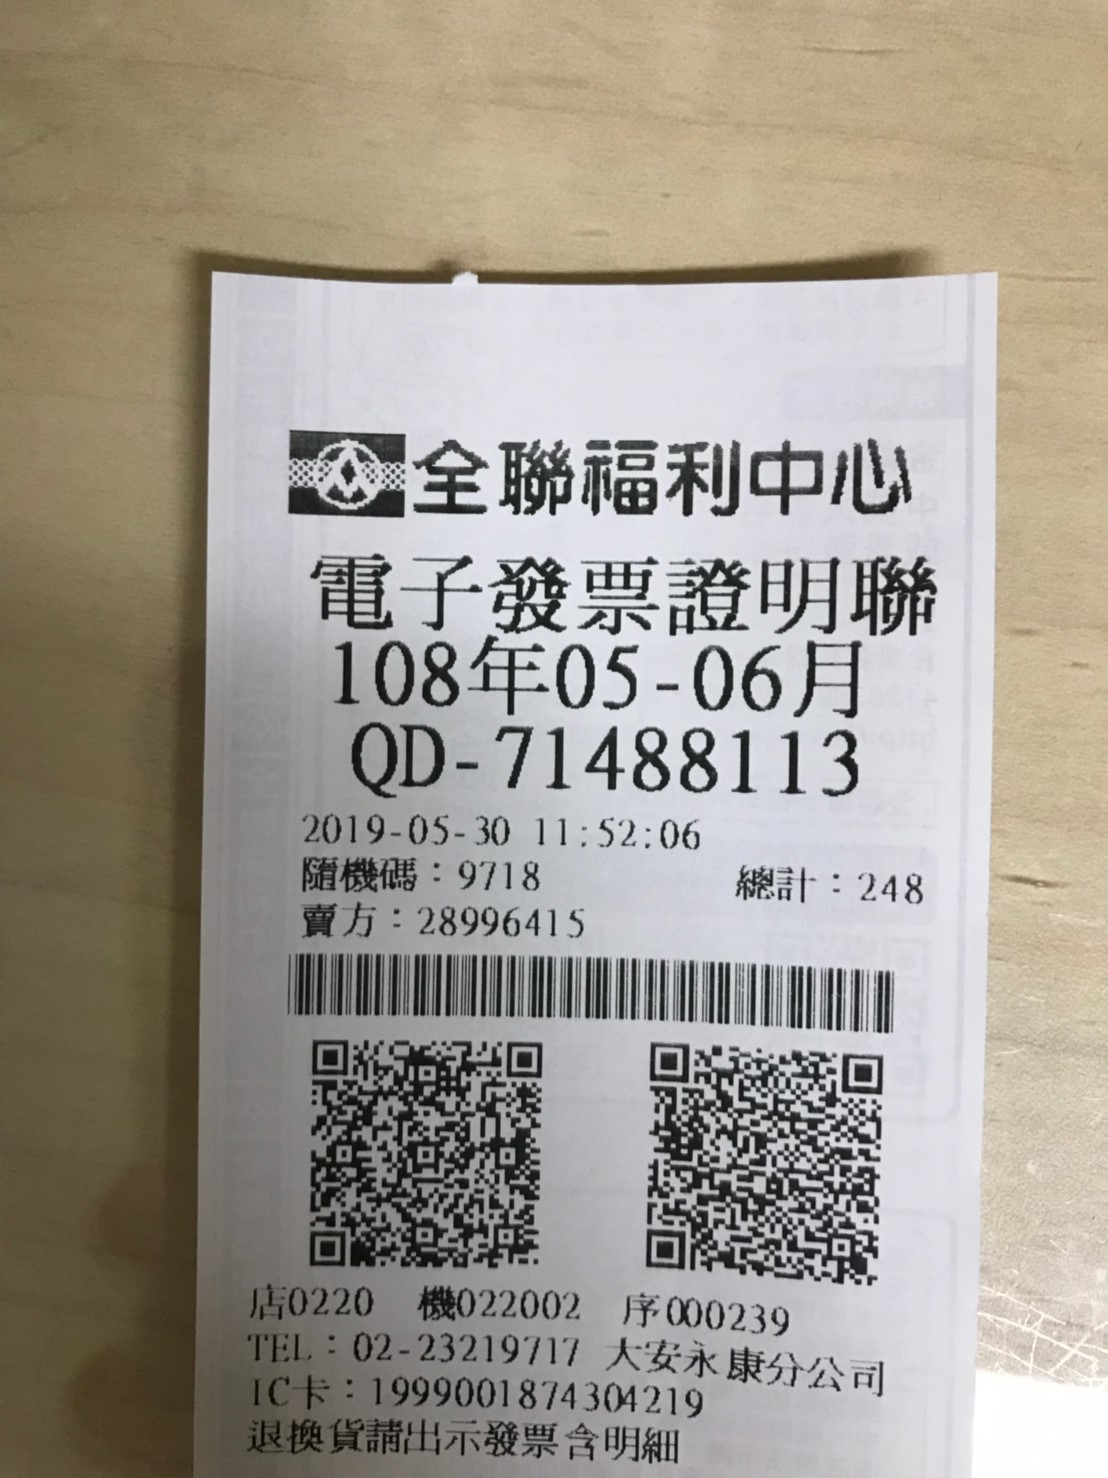Date_New: (329, 638, 864, 719)
Number_New: (492, 718, 864, 800)
